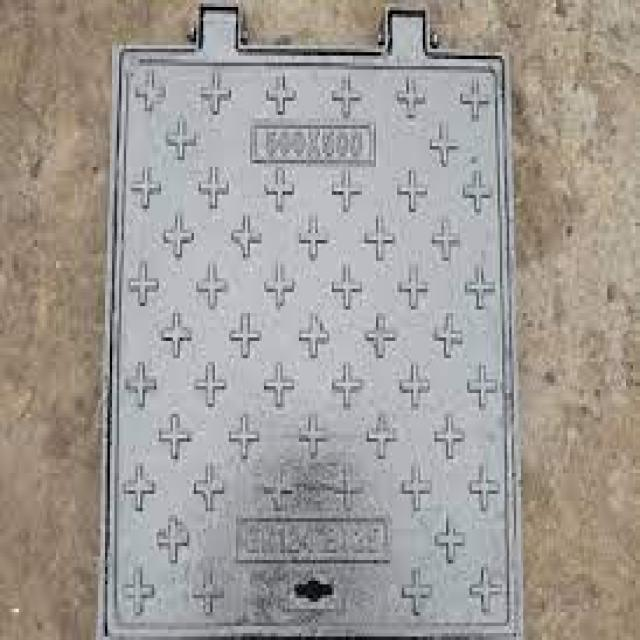manhole: (106, 8, 521, 640)
